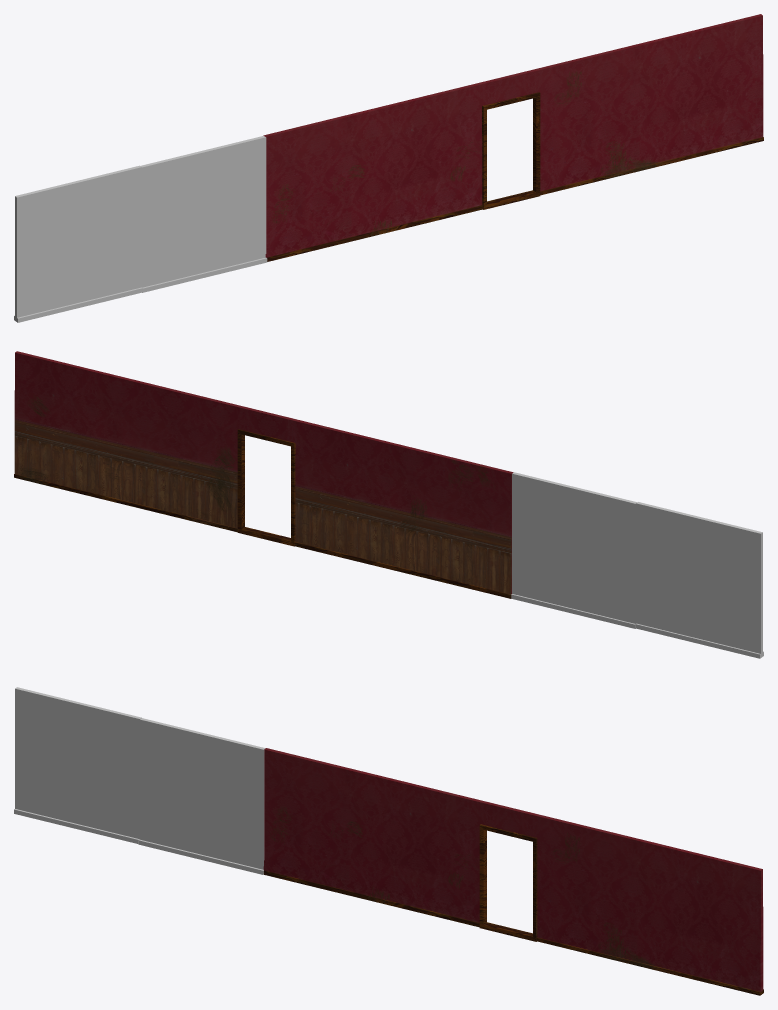
File: wall_small_corridor_red.fbx
3 views of the same model, one above another, from view 1: azimuth 30°, elevation 25°; view 2: azimuth 150°, elevation 25°; view 3: azimuth 330°, elevation 25° (orthographic).
Visible parts, largest first — view 1: polySurface4, pCube157, pCube155; view 2: polySurface4, pCube157, pCube155; view 3: polySurface4, pCube157, pCube155.
Boxes of the visible parts, <box> form: polySurface4: <box>263,14,763,261</box>; pCube157: <box>14,165,142,322</box>; pCube155: <box>141,136,267,292</box>; polySurface4: <box>14,351,513,598</box>; pCube157: <box>635,502,763,658</box>; pCube155: <box>511,472,636,628</box>; polySurface4: <box>263,748,763,995</box>; pCube157: <box>14,687,141,844</box>; pCube155: <box>138,718,265,874</box>.
Bounding box in the file's own units: 1653 × 266 × 17.01.
